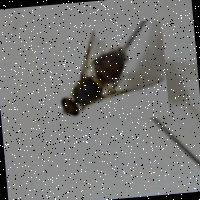Oriental-fruit-fly: (49, 18, 170, 125)
